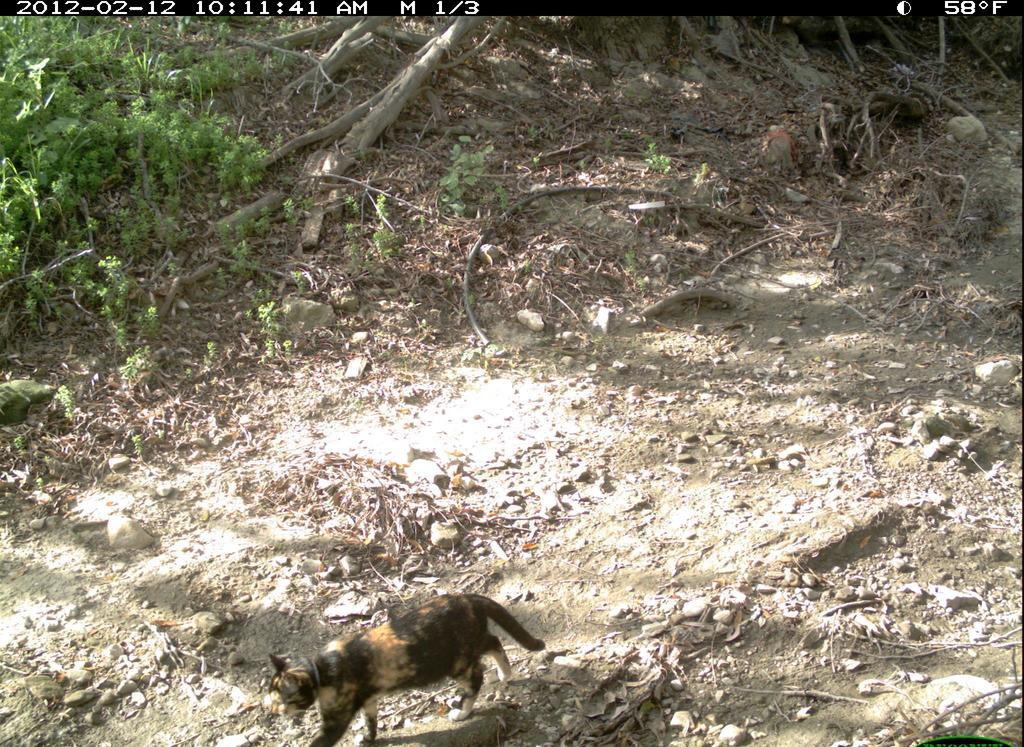cat: (258, 579, 552, 747)
